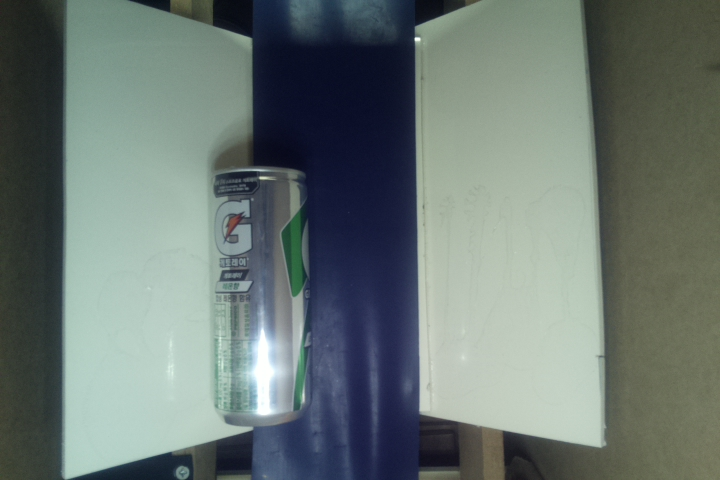can: (207, 162, 316, 428)
